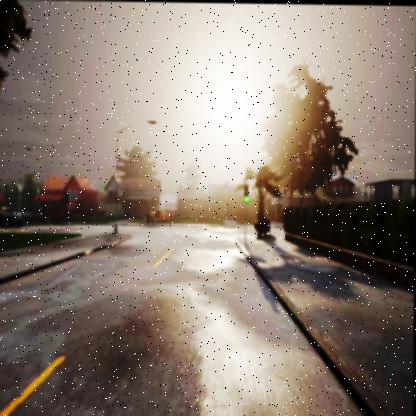vehicle: (0, 207, 24, 228)
